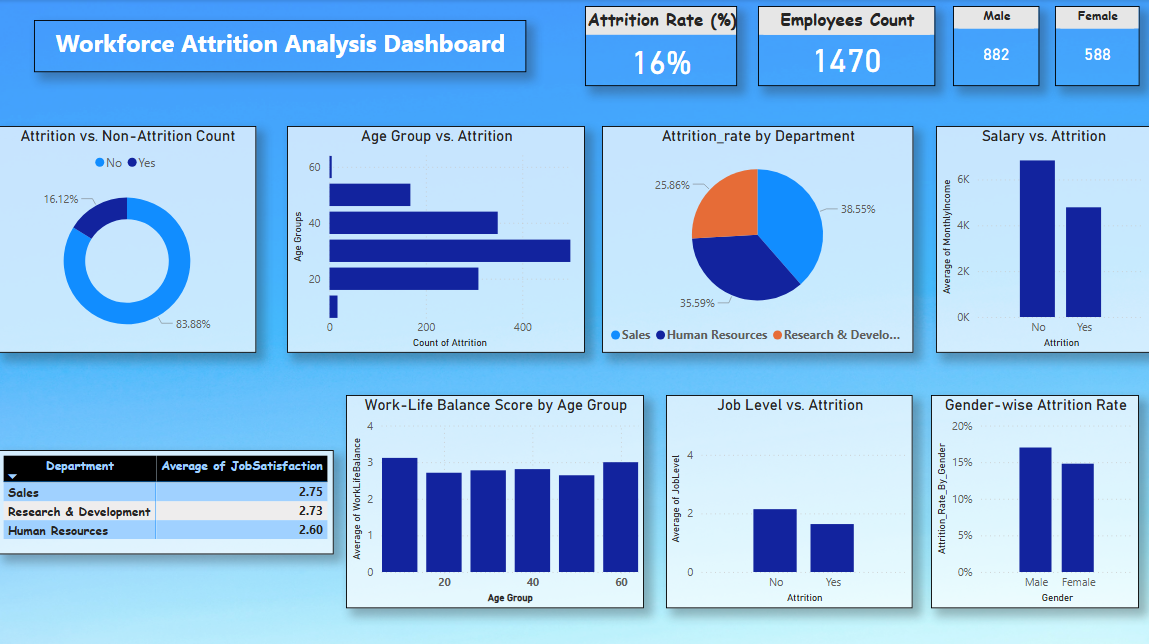

The page's visual inventory and layout, read from the dashboard file:
{"tool":"powerbi","page":{"name":"Page 1","canvas":[1280,720],"ordinal":0},"visuals":[{"type":"textbox","box":[40.3,22.2,547.3,58.5],"z":0},{"type":"donutChart","title":"Attrition vs. Non-Attrition Count","fields":{"Y":["HR-Employee-Attrition.Attrition_No_Count","HR-Employee-Attrition.Attrition_yes_rate"],"Category":["HR-Employee-Attrition.Attrition"]},"box":[0,140,286.7,252.2],"z":1000},{"type":"card","title":"Attrition Rate (%)","fields":{"Values":["HR-Employee-Attrition.Attrition_rate"]},"box":[652.1,7.1,169.3,88.7],"z":2000},{"type":"card","title":"Employees Count","fields":{"Values":["HR-Employee-Attrition.No_of_employees"]},"box":[844.6,7.1,196.5,88.7],"z":3000},{"type":"barChart","title":"Age Group vs. Attrition","fields":{"Category":["HR-Employee-Attrition.Age (bins)"],"Y":["CountNonNull(HR-Employee-Attrition.Attrition)"]},"box":[321.1,140,331.1,252.2],"z":4000},{"type":"pieChart","fields":{"Y":["HR-Employee-Attrition.Attrition_rate"],"Category":["HR-Employee-Attrition.Department"]},"box":[671.1,140,345.6,252.2],"z":4001},{"type":"pivotTable","fields":{"Rows":["HR-Employee-Attrition.Department"],"Values":["Avg(HR-Employee-Attrition.JobSatisfaction)"]},"box":[0,500,373.3,115.6],"z":4002},{"type":"clusteredColumnChart","title":"Work-Life Balance Score by Age Group","fields":{"Category":["HR-Employee-Attrition.Age (bins)"],"Y":["Avg(HR-Employee-Attrition.WorkLifeBalance)"]},"box":[386.7,438.9,331.1,236.7],"z":4003},{"type":"card","title":"Male","fields":{"Values":["HR-Employee-Attrition.Male_workers_count"]},"box":[1061.3,7.1,95.7,88.7],"z":4004},{"type":"card","title":"Female","fields":{"Values":["HR-Employee-Attrition.Female_count"]},"box":[1174.2,7.1,93.7,88.7],"z":4005},{"type":"clusteredColumnChart","title":"Salary vs. Attrition","fields":{"Category":["HR-Employee-Attrition.Attrition"],"Y":["Avg(HR-Employee-Attrition.MonthlyIncome)"]},"box":[1042.2,140,237.8,252.2],"z":4006},{"type":"clusteredColumnChart","title":"Job Level vs. Attrition","fields":{"Y":["Avg(HR-Employee-Attrition.JobLevel)"],"Category":["HR-Employee-Attrition.Attrition"]},"box":[742.2,438.9,274.4,236.7],"z":4007},{"type":"columnChart","title":"Gender-wise Attrition Rate","fields":{"Category":["HR-Employee-Attrition.Gender"],"Y":["Avg(HR-Employee-Attrition.Attrition_Rate_By_Gender)"]},"box":[1036.7,438.9,231.1,236.7],"z":4008}]}

Visuals, with their boxes in screenshot pixels (x1, y1, x2, y2), scaled from the page's 1280x720 canvas onto the 1149x644 screenshot:
textbox: x1=36 y1=20 x2=527 y2=72
"Attrition vs. Non-Attrition Count" donutChart: x1=0 y1=125 x2=257 y2=351
"Attrition Rate (%)" card: x1=585 y1=6 x2=737 y2=86
"Employees Count" card: x1=758 y1=6 x2=935 y2=86
"Age Group vs. Attrition" barChart: x1=288 y1=125 x2=585 y2=351
pieChart - HR-Employee-Attrition.Attrition_rate x HR-Employee-Attrition.Department: x1=602 y1=125 x2=913 y2=351
pivotTable - HR-Employee-Attrition.Department x Avg(HR-Employee-Attrition.JobSatisfaction): x1=0 y1=447 x2=335 y2=551
"Work-Life Balance Score by Age Group" clusteredColumnChart: x1=347 y1=393 x2=644 y2=604
"Male" card: x1=953 y1=6 x2=1039 y2=86
"Female" card: x1=1054 y1=6 x2=1138 y2=86
"Salary vs. Attrition" clusteredColumnChart: x1=936 y1=125 x2=1148 y2=351
"Job Level vs. Attrition" clusteredColumnChart: x1=666 y1=393 x2=913 y2=604
"Gender-wise Attrition Rate" columnChart: x1=931 y1=393 x2=1138 y2=604
